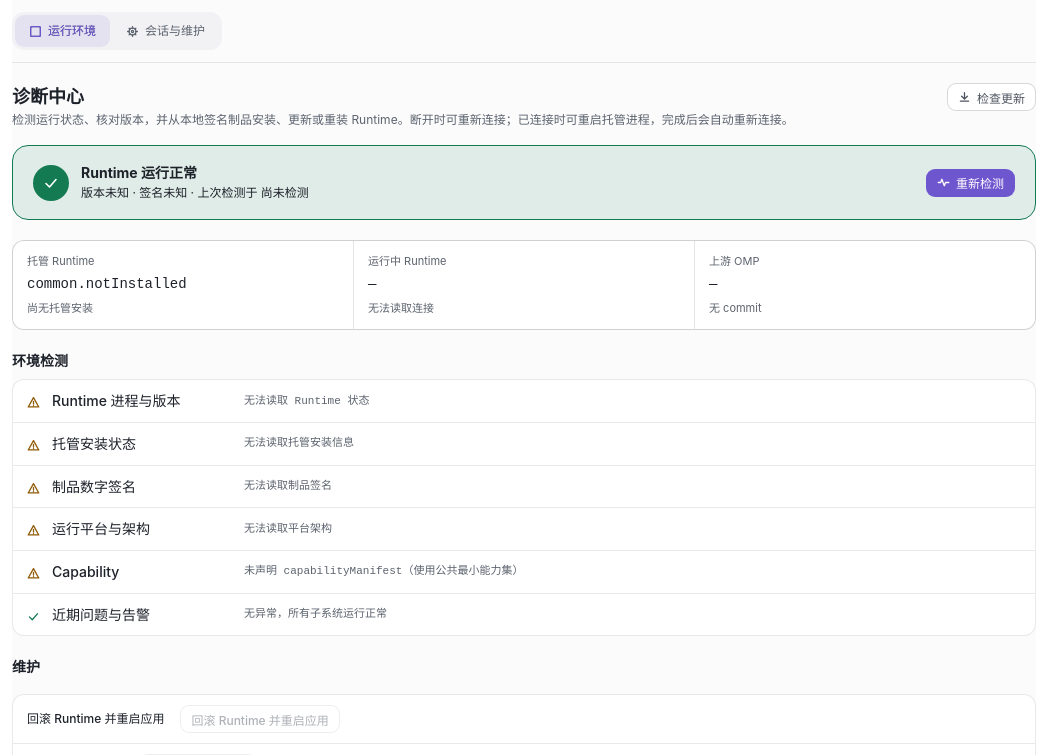
Test case: DiagnosticsPage › reports a timeout only for a manual update check
Click the button "检查更新". click: (992,97)
box: [947, 83, 1036, 111]
Wait 8000 ms
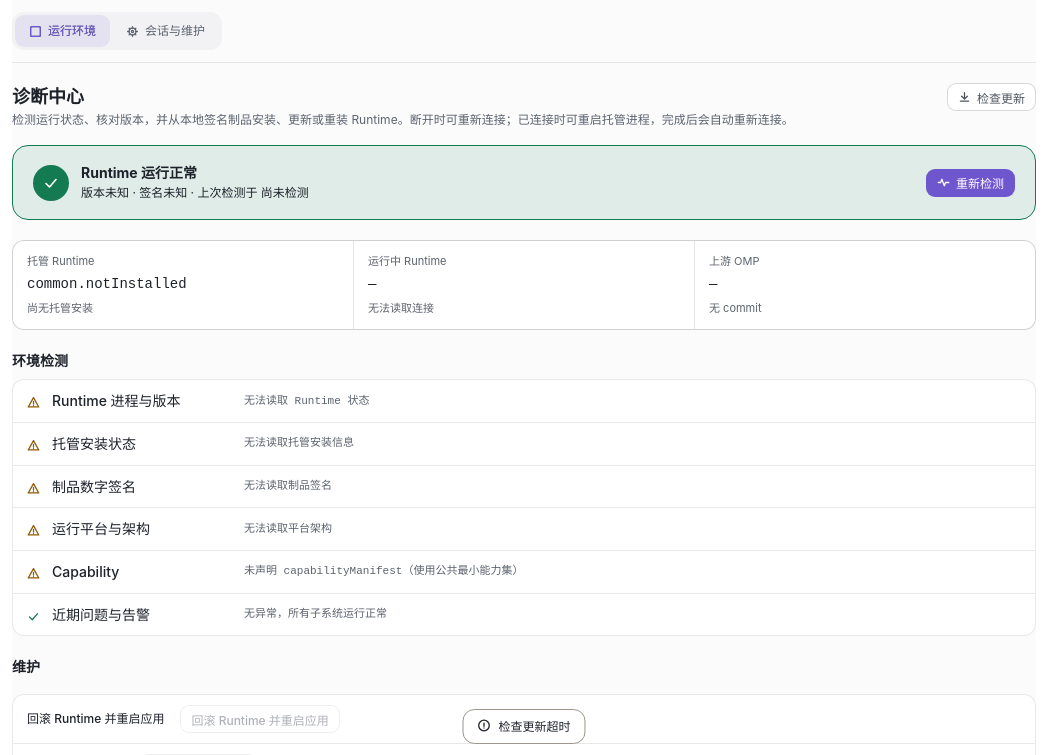
Check: the text "检查更新超时" is shown, box [498, 718, 570, 735]
